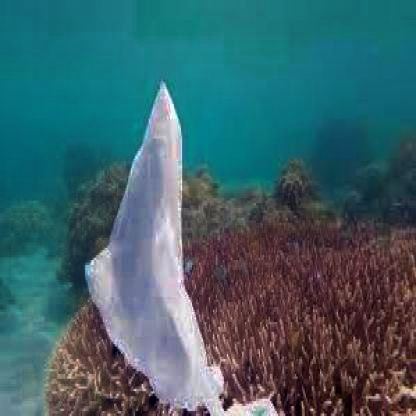pbag: (82, 77, 277, 416)
